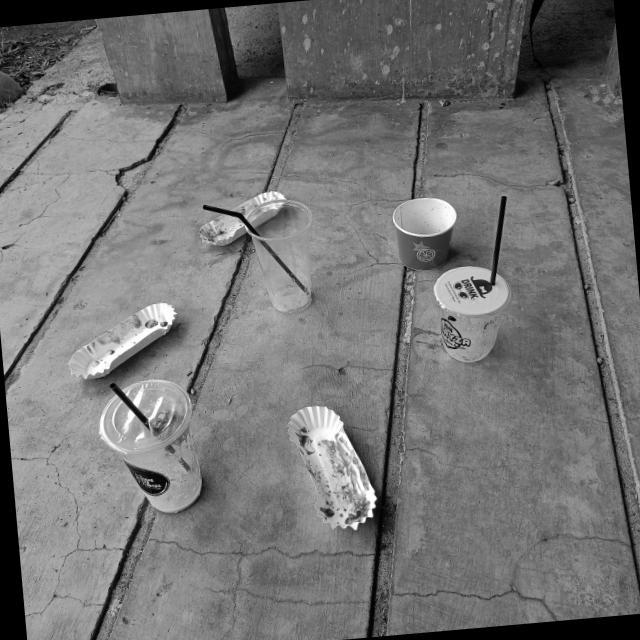recyclable waste: (89, 366, 216, 524), (278, 390, 388, 540), (56, 291, 190, 388), (235, 188, 327, 321), (424, 252, 520, 373), (188, 183, 298, 255), (384, 187, 466, 277)
